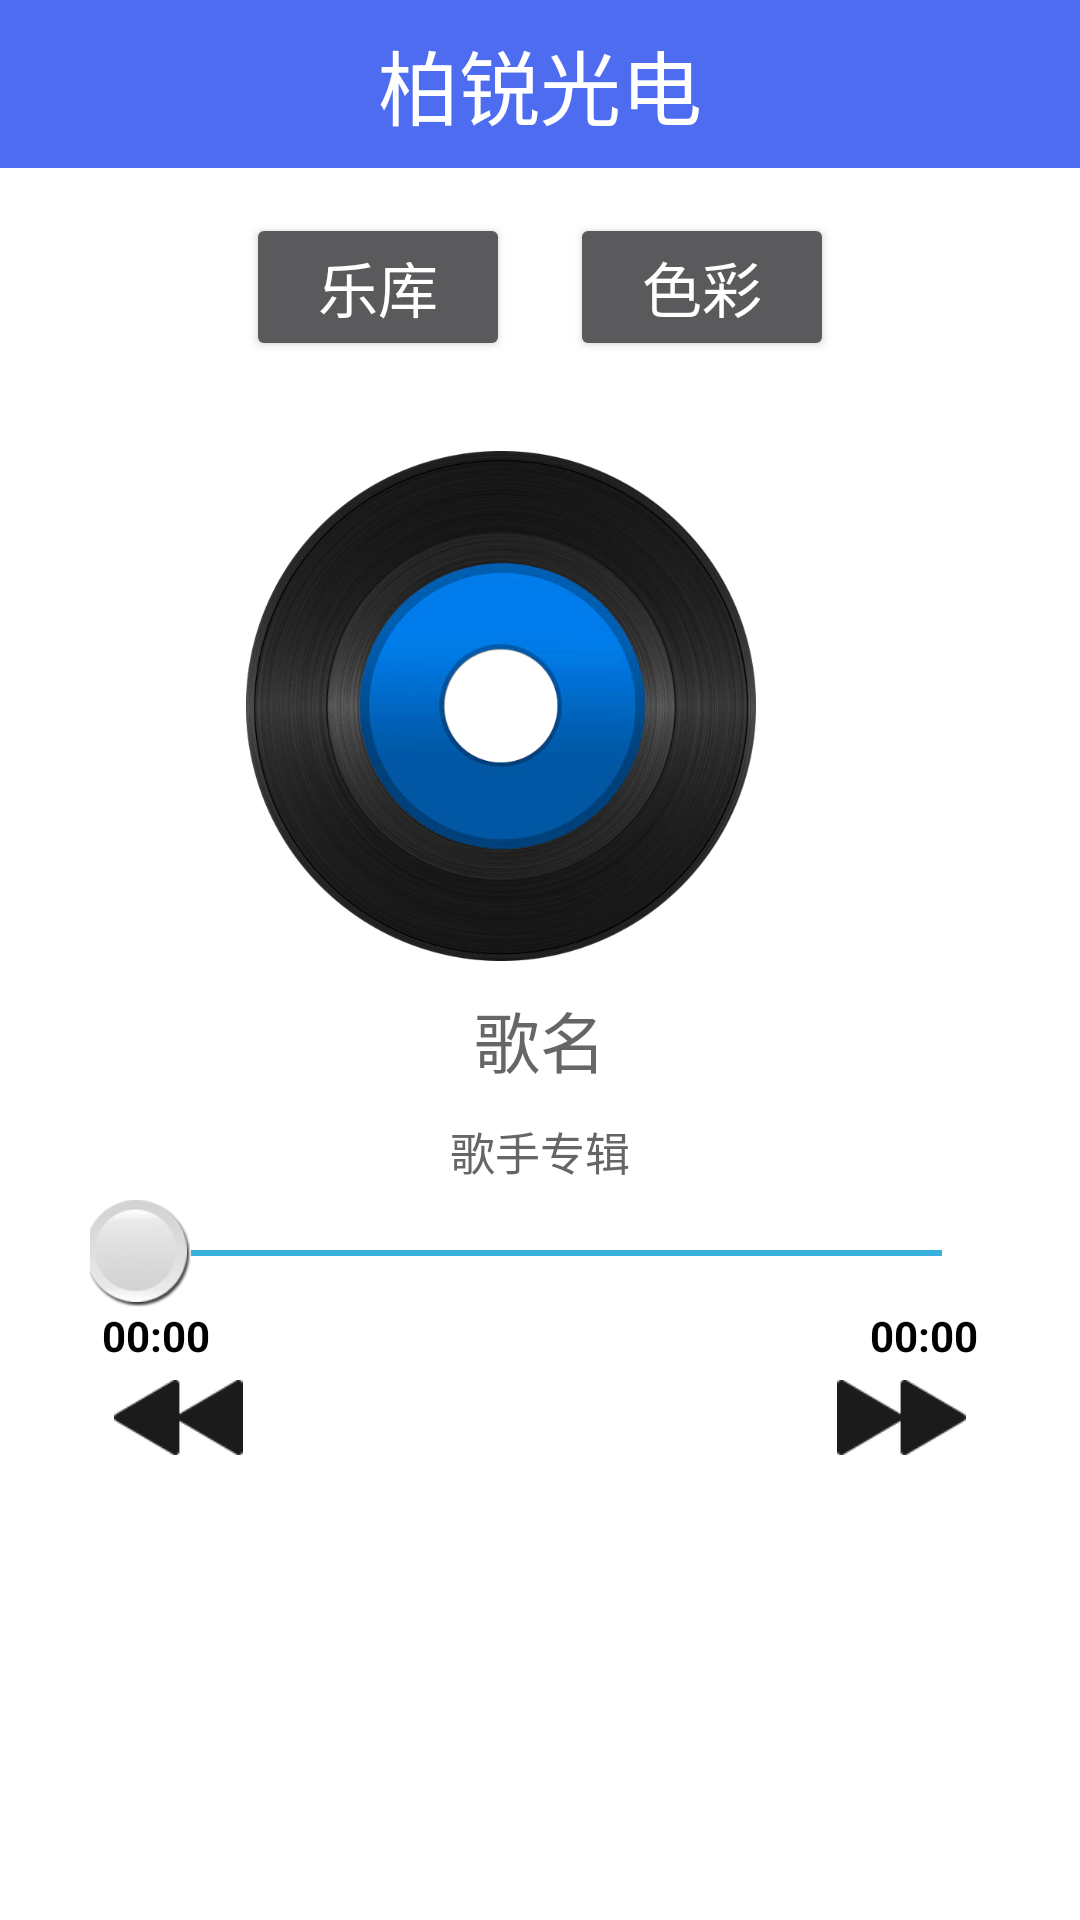

Screen size 1080 × 1920. Icon name, then its center in pixels as point (x, y):
video next style: point (901, 1417)
video pre style: point (178, 1417)
